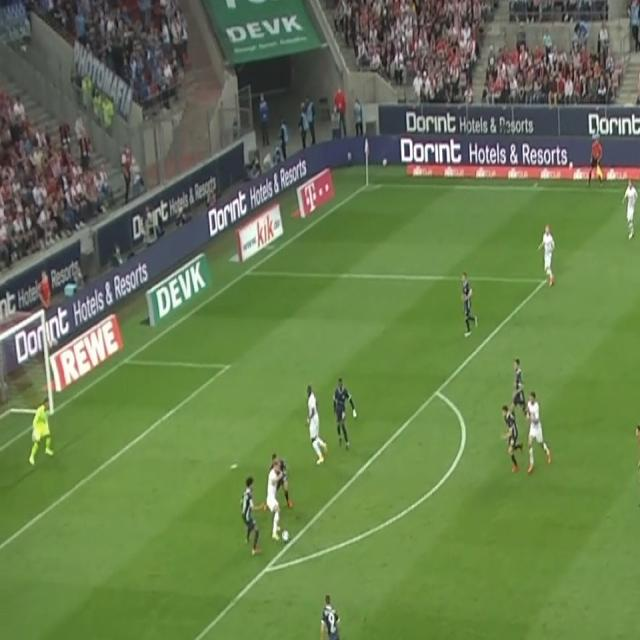ball: (281, 528, 289, 543)
